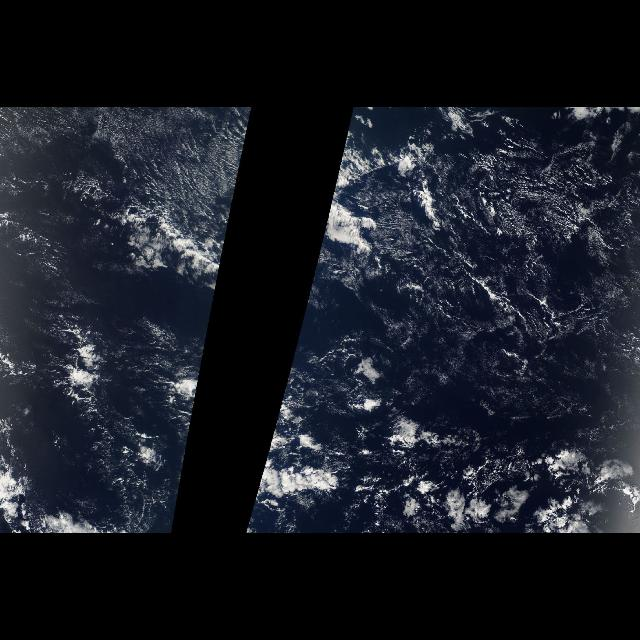Flower: (266, 430, 634, 516)
Gravel: (362, 150, 640, 356)
Sugar: (341, 138, 639, 408), (0, 107, 234, 247)
